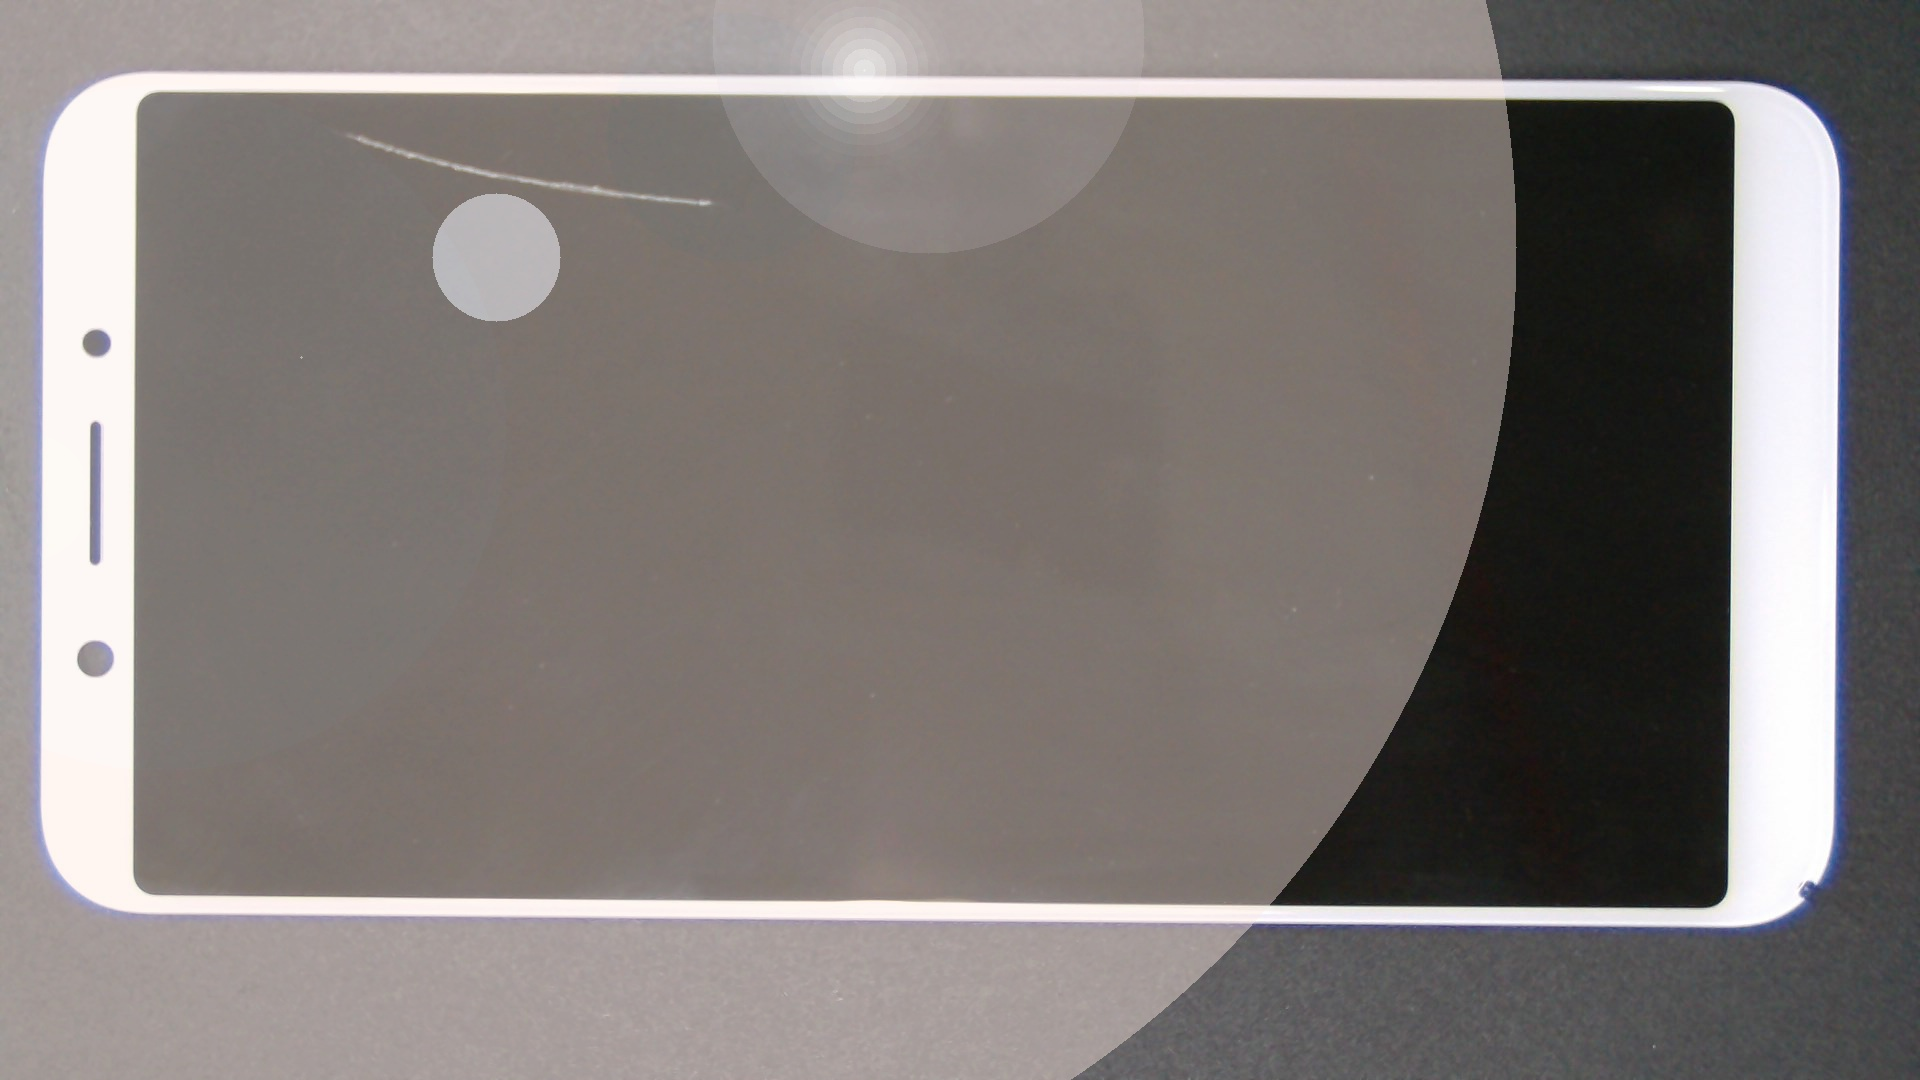oil: (174, 66, 521, 200)
